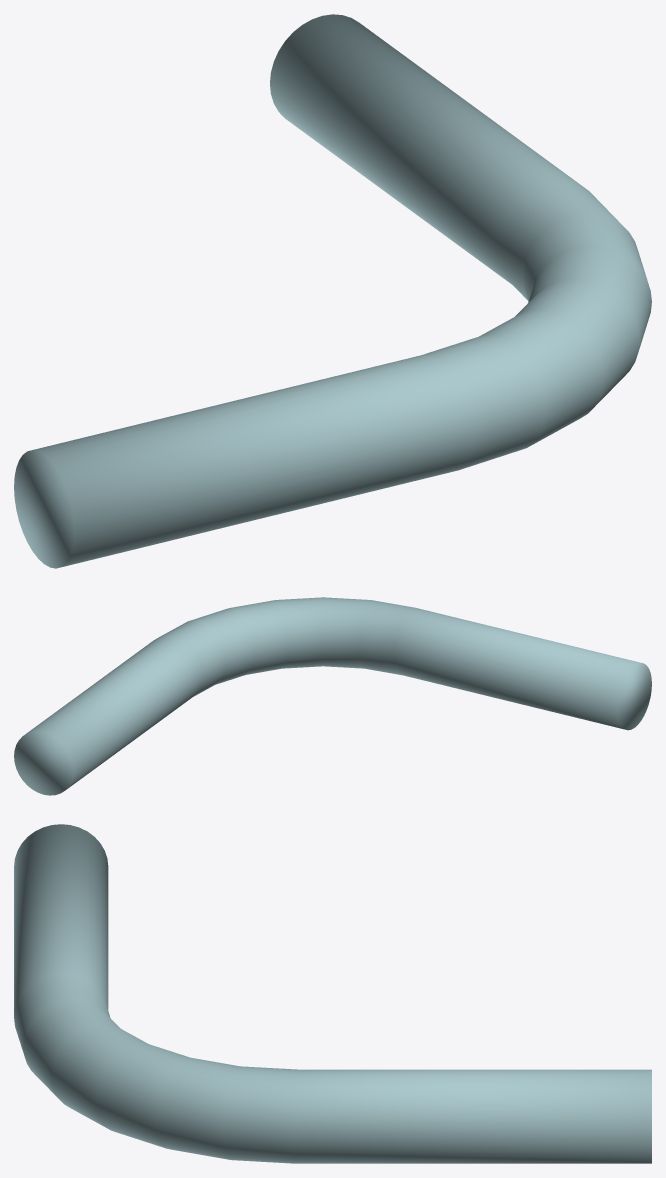
Rendered from ElbowPipe.fbx.
3 renders of one model, top to bottom at view 1: azimuth 30°, elevation 25°; view 2: azimuth 150°, elevation 25°; view 3: azimuth 270°, elevation 25°, orthographic. The views are drawn at different scales.
Parts seen in each view (by area): view 1: ElbowPipe; view 2: ElbowPipe; view 3: ElbowPipe.
Part boxes in pixels (<box>): ElbowPipe: <box>14,14,651,568</box>; ElbowPipe: <box>14,597,651,795</box>; ElbowPipe: <box>14,824,651,1163</box>.
Size of what is drawn, in the model's own units: 6.3 by 6.3 by 0.9321.
